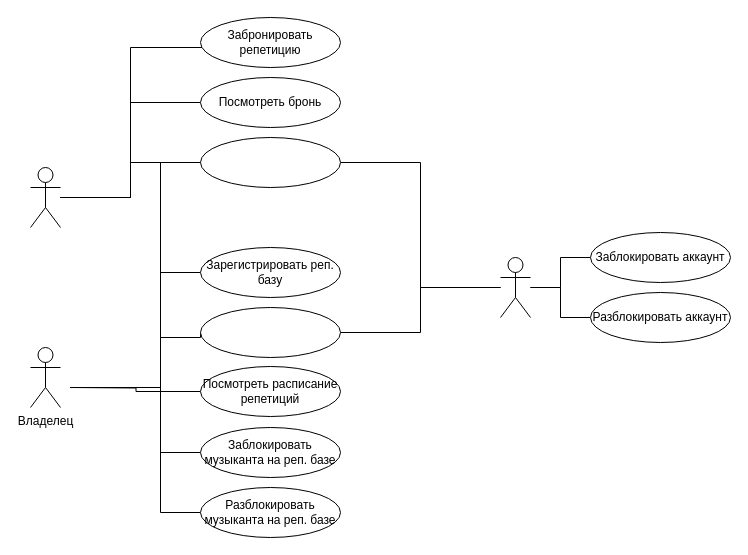
This 748x555 diagram has some shape labels left out. The centre of each missing label's shape, as x and y in pixels:
"Администратор" belongs at (x=515, y=287).
"Музыкант" belongs at (x=45, y=197).
"Отменить репетицию" belongs at (x=270, y=162).
"Удалить реп. базу" belongs at (x=270, y=332).
